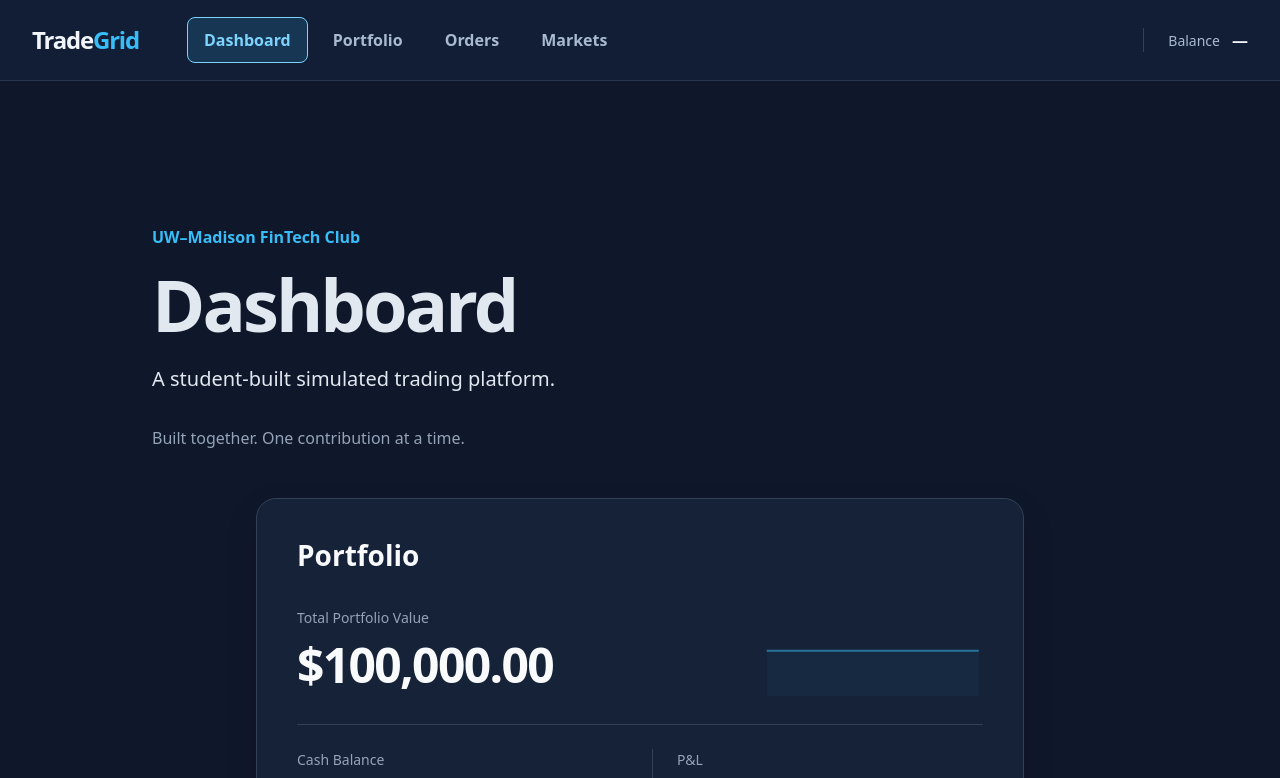
Test: App › starts on Dashboard and follows navigation clicks
The image size is (1280, 778).
expect the heading "Dashboard" is shown: met, box [152,255,516,353]
Click the button "Orders" at (472, 40), box [428,17,516,63]
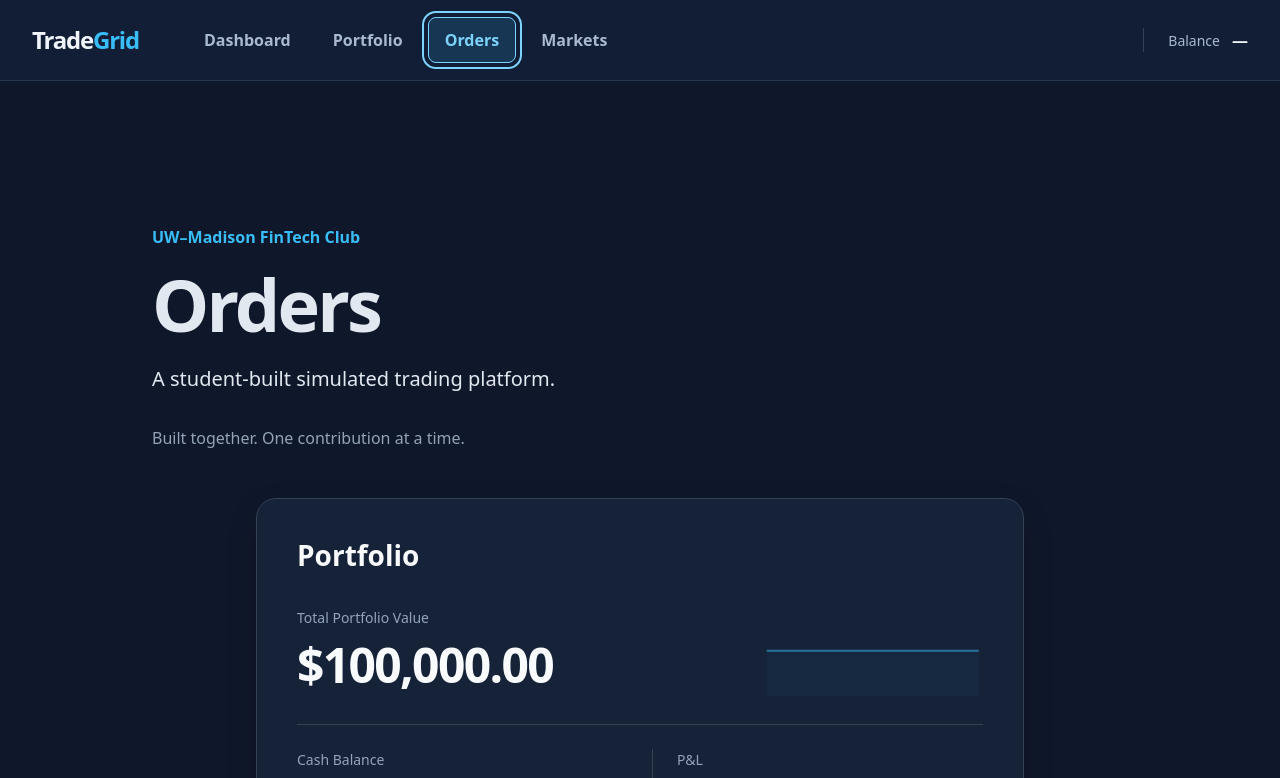
expect the heading "Orders" is shown: met, box [152,255,380,353]
Click the button with aria-label "TradeGrid dashboard" at (86, 40), box [32,14,139,66]
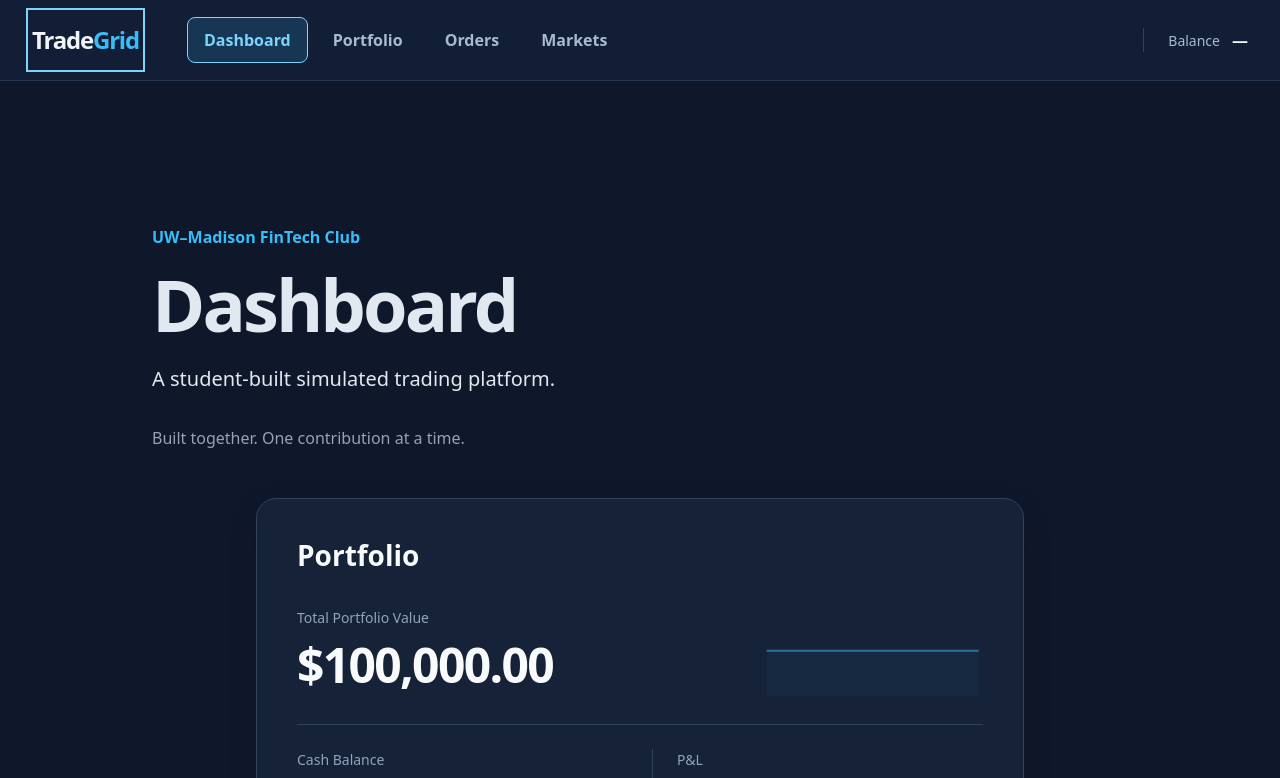
expect the heading "Dashboard" is shown: met, box [152,255,516,353]
